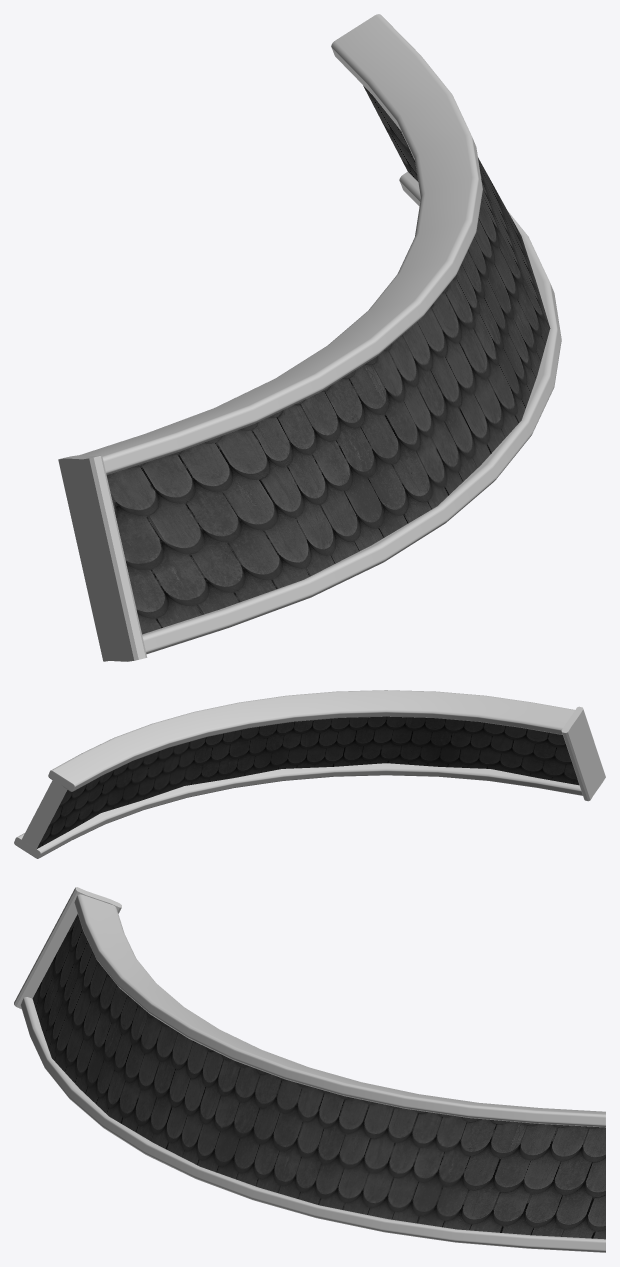
Rendered from SM_RoundRoof_A_001.FBX.
3 renders of one model, top to bottom at view 1: azimuth 30°, elevation 25°; view 2: azimuth 150°, elevation 25°; view 3: azimuth 270°, elevation 25°, orthographic. The views are drawn at different scales.
Parts seen in each view (by area): view 1: SM_RoundRoof_A_001; view 2: SM_RoundRoof_A_001; view 3: SM_RoundRoof_A_001.
Boxes of the visible parts, x1,y1,x2,y2 form: SM_RoundRoof_A_001: (58, 14, 561, 661); SM_RoundRoof_A_001: (14, 690, 605, 858); SM_RoundRoof_A_001: (14, 887, 605, 1252).
Bounding box in the file's own units: 580 × 144 × 581.
